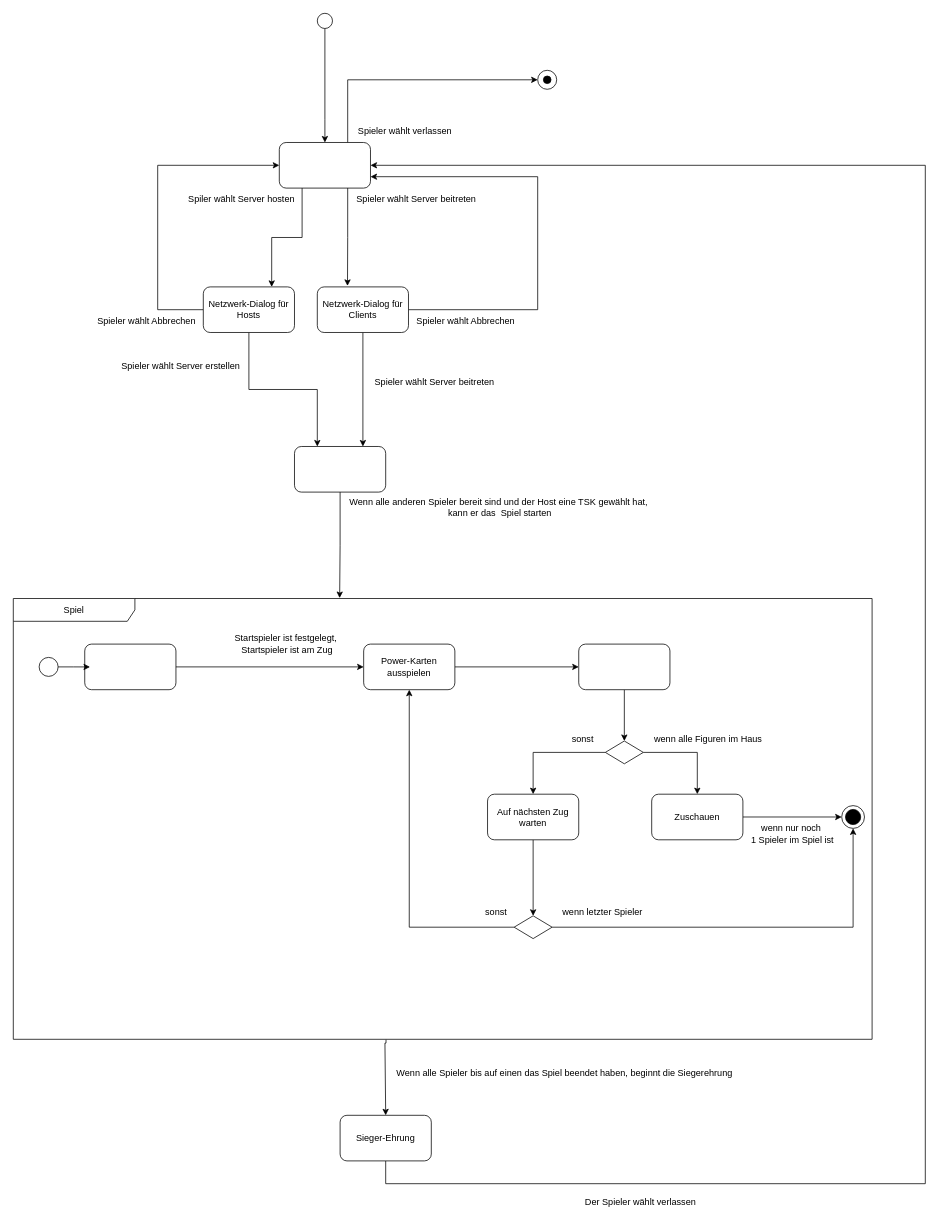
Some shapes in this 945 by 1227 pixel diagram are drawn without their labels. The shapes that lost their labels are listed below. From the top down, each one's centre as x and y in pixels, then its label:
point 324,165: Start-Dialog
point 340,469: Lobby
point 130,666: Auswürfeln des Startspielers
point 624,666: Würfeln + Figur ziehen
